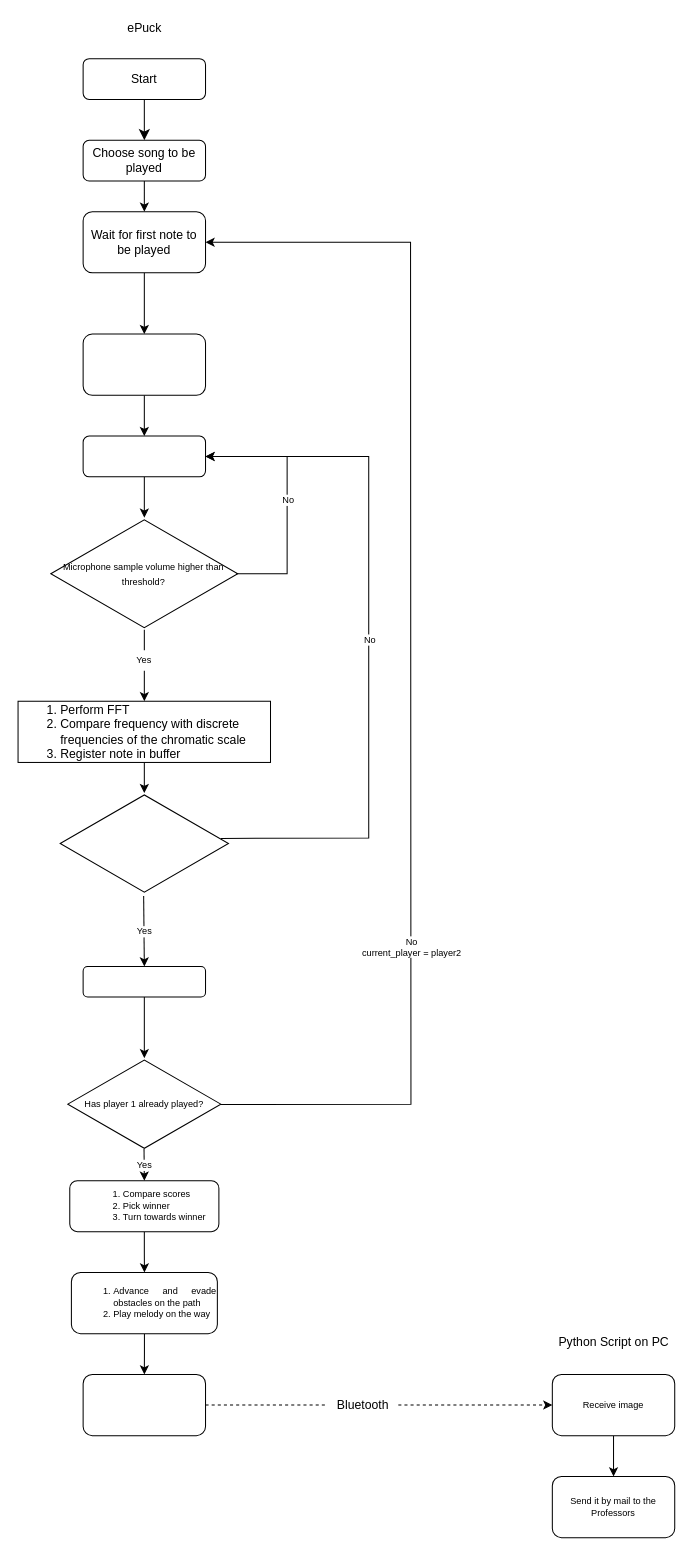
This 693x1556 diagram has some shape labels left out. The centre of each missing label's shape, as x and y in pixels:
Computate the score: the point at 144,981
Dance: the point at 144,364
Is the registered note buffers bigger than RECORDING_SIZE?: the point at 143,843
Take photo of the winner and send it by bluetooth to the PC: the point at 144,1404
Wait for note to be played while dancing: the point at 144,456
